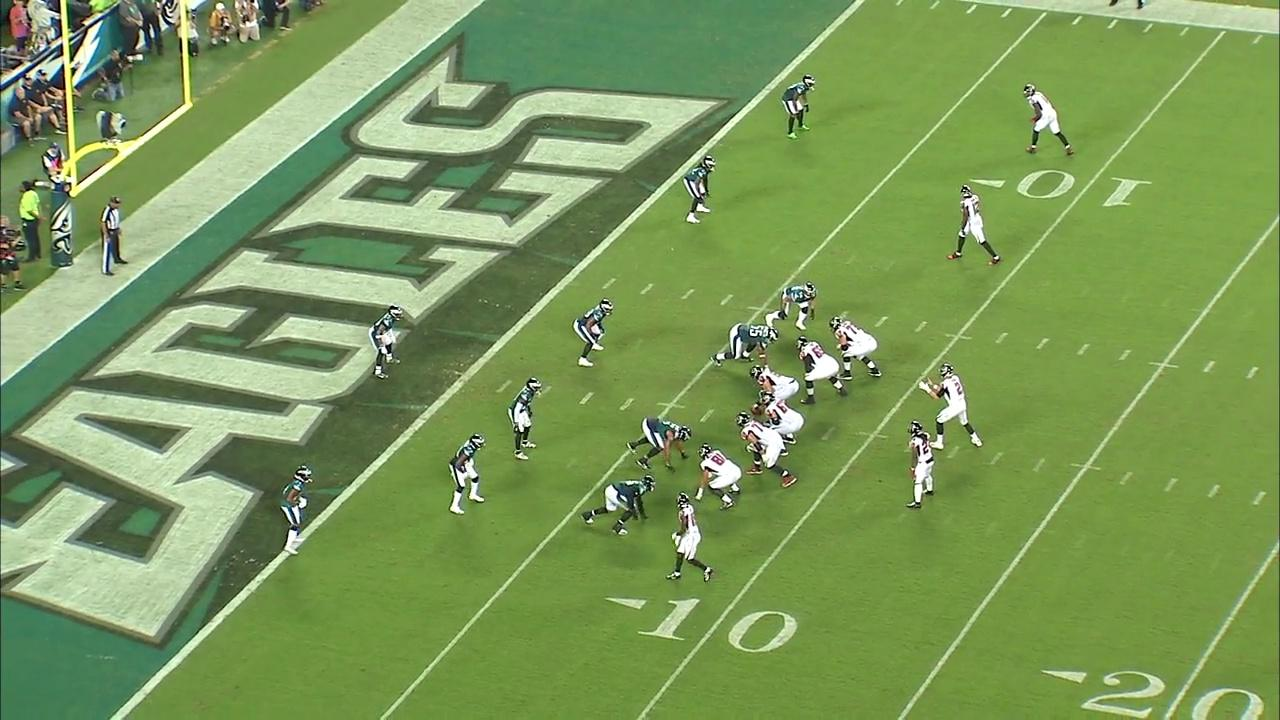defense: (580, 472, 656, 544), (627, 412, 692, 477), (707, 322, 780, 372), (277, 463, 314, 560), (450, 431, 486, 517), (507, 375, 542, 463), (765, 279, 822, 333), (573, 297, 614, 370), (369, 301, 404, 382), (680, 154, 717, 227), (782, 72, 816, 144)
oline: (736, 413, 797, 491), (795, 335, 853, 405), (827, 315, 883, 386), (748, 363, 802, 419), (762, 392, 805, 456)
qb: (915, 362, 986, 450)
ref: (98, 195, 133, 276)
skill: (667, 493, 717, 587), (1018, 81, 1077, 159), (947, 185, 1001, 270), (695, 443, 747, 510), (903, 424, 939, 510)
